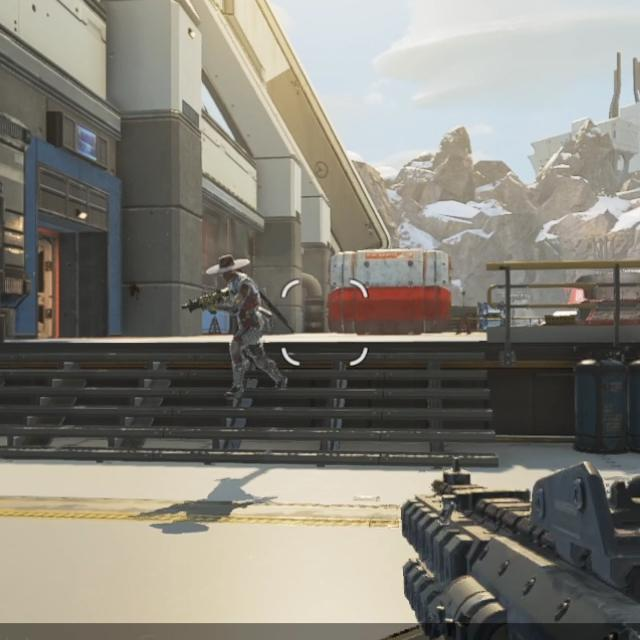avatar: (204, 256, 290, 398)
